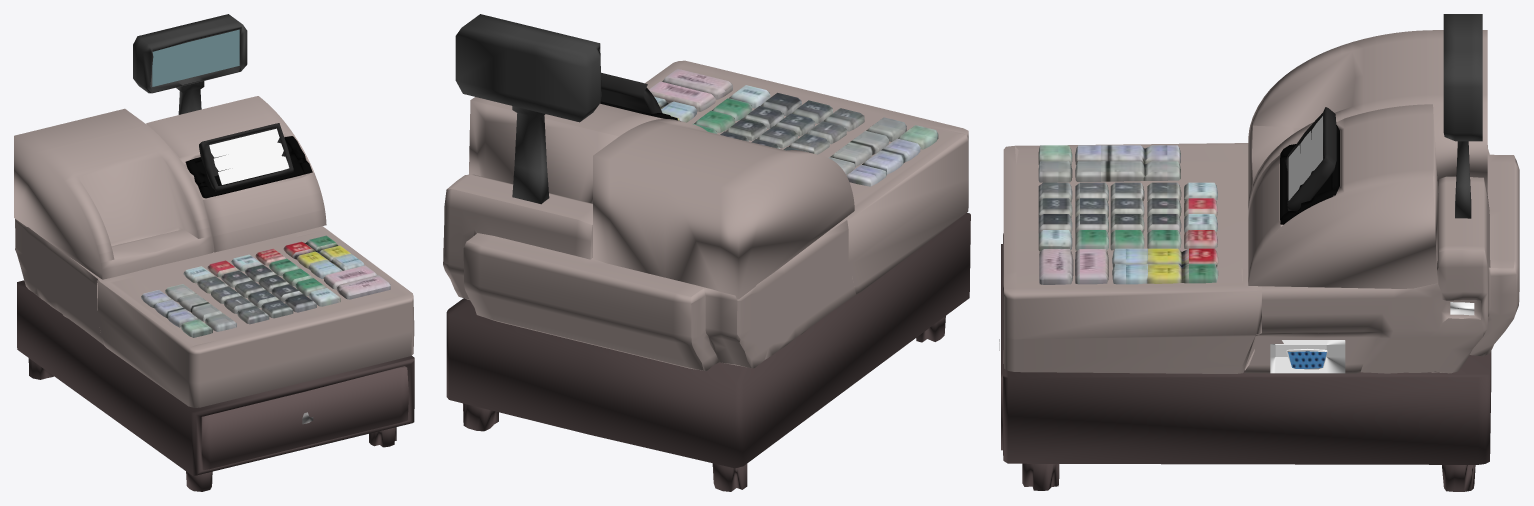
Rendered from register_optimised.glb.
3 views of the same model, side by side, from view 1: azimuth 30°, elevation 25°; view 2: azimuth 150°, elevation 25°; view 3: azimuth 270°, elevation 25° (orthographic). The views are drawn at different scales.
Parts seen in each view (by area): view 1: register; view 2: register; view 3: register.
Part boxes in pixels (x1,y1,x2,y2): register: [14, 14, 414, 491]; register: [443, 14, 970, 491]; register: [999, 14, 1519, 491].
Bounding box in the file's own units: 0.3993 × 0.5085 × 0.577.
12 materials, 3 textured.
